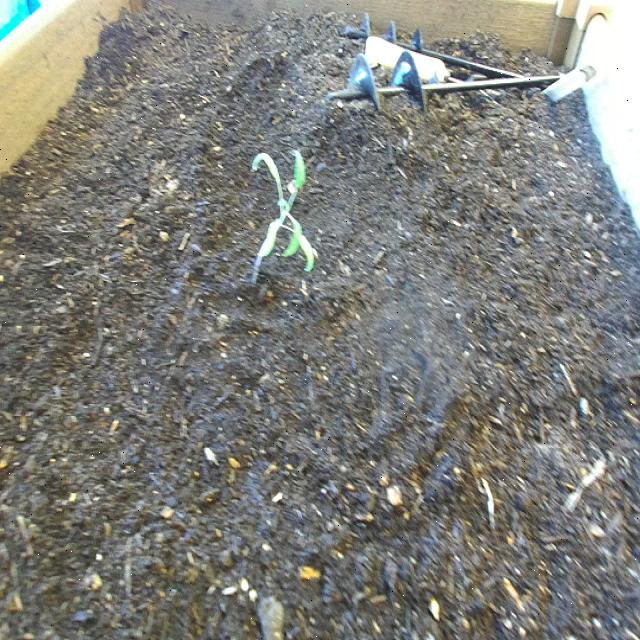Healthy: (240, 134, 326, 306)
